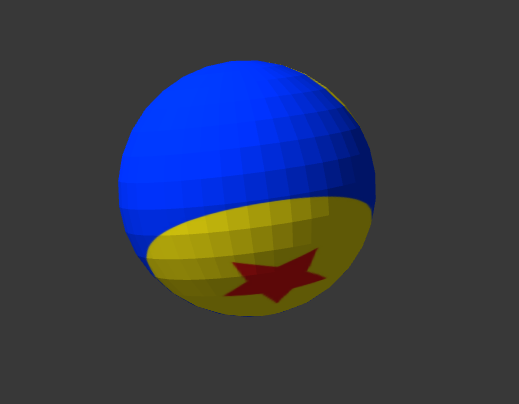toy story ball: (117, 60, 375, 317)
